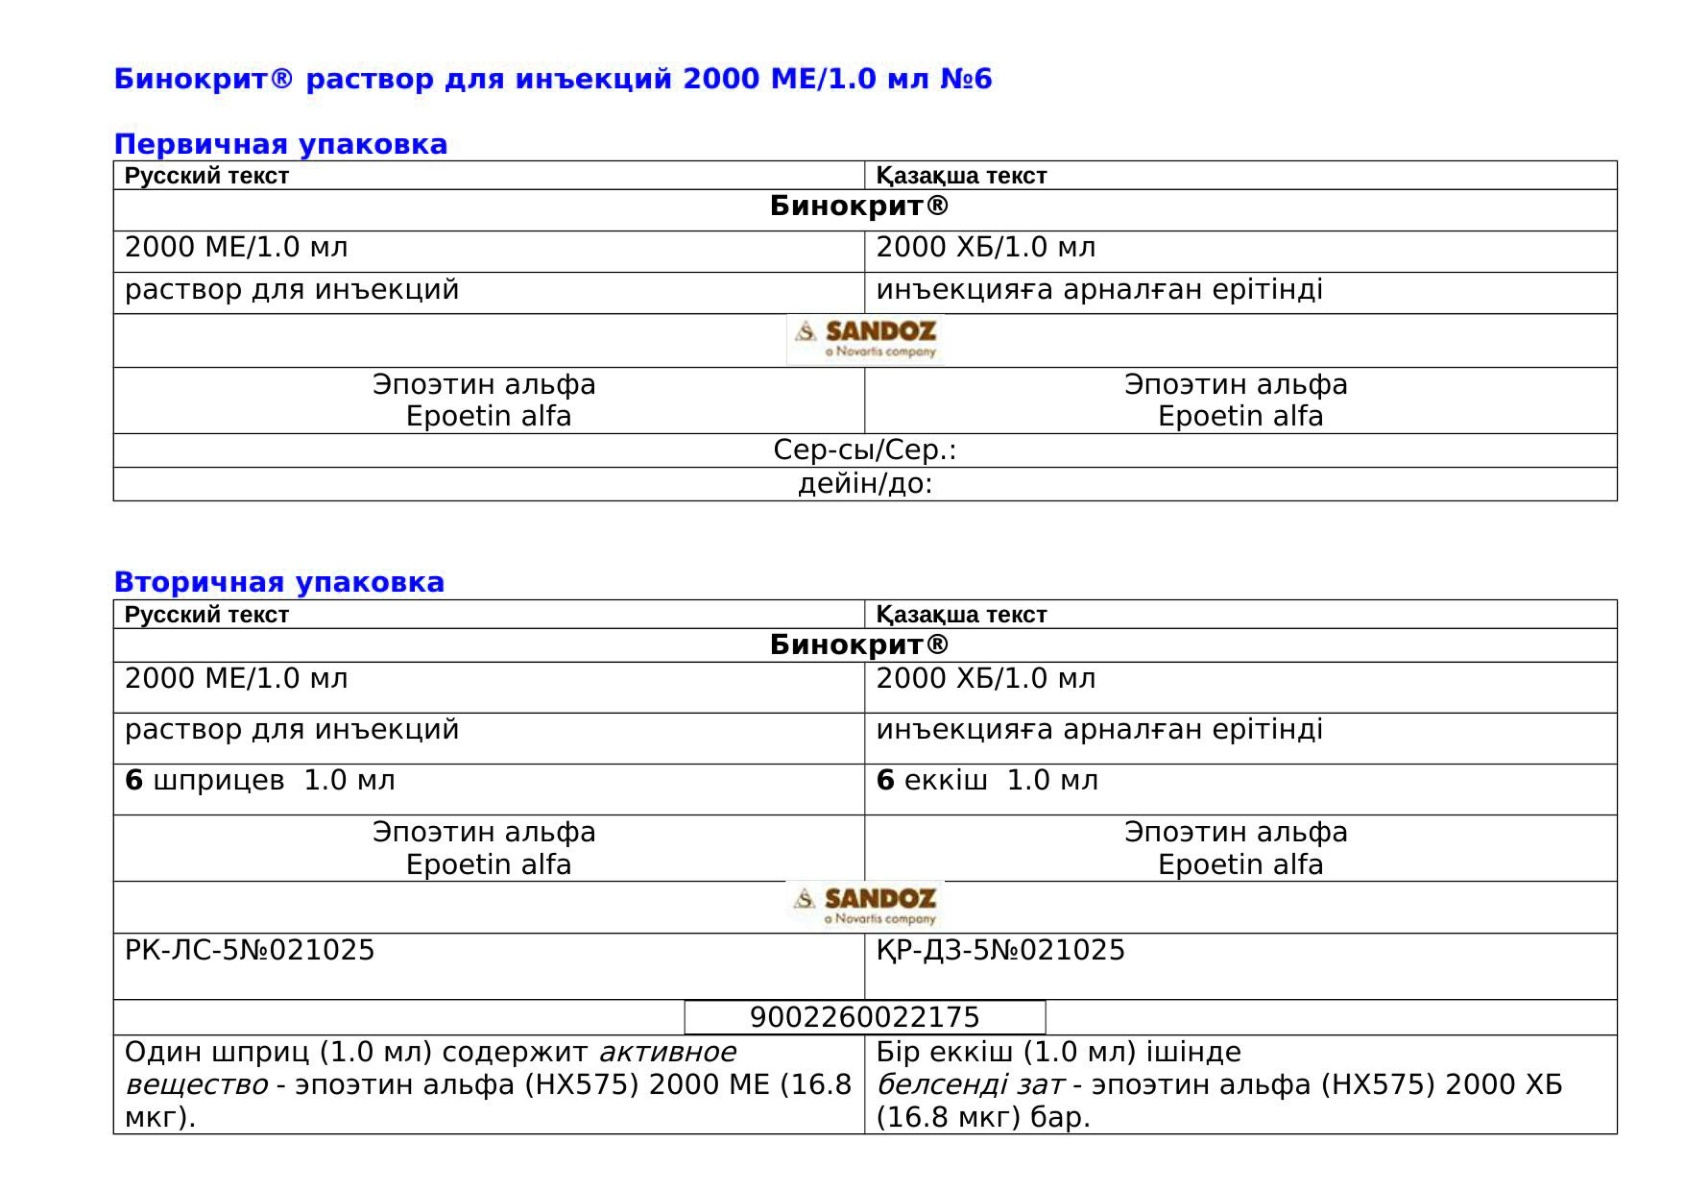merged_cells: (112, 598, 1619, 1136), (112, 160, 1619, 503)
